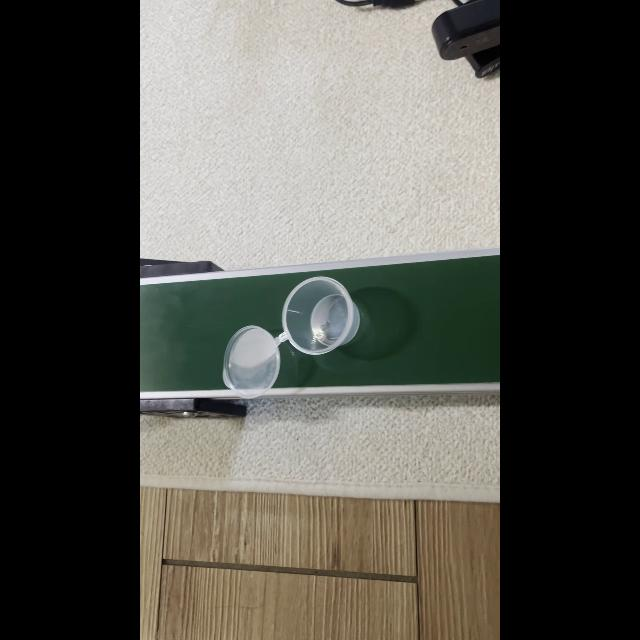clean: (286, 281, 354, 351), (222, 336, 280, 390)
